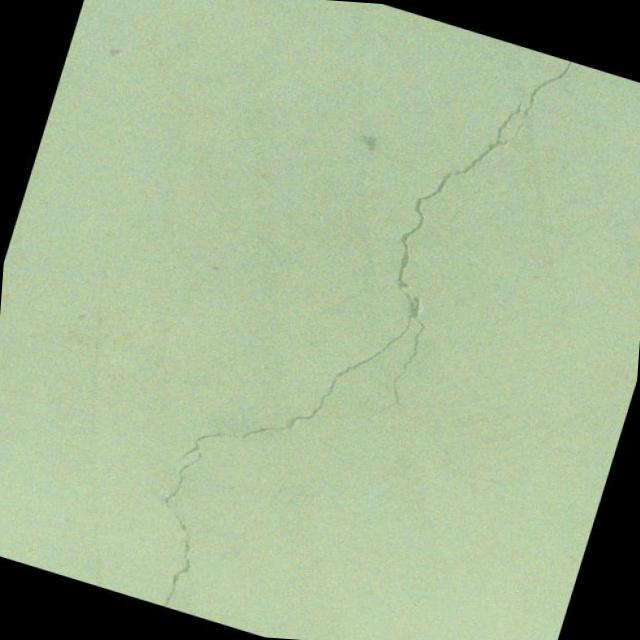crack: (130, 0, 583, 640), (420, 434, 511, 490), (540, 524, 590, 566), (516, 504, 554, 530)
